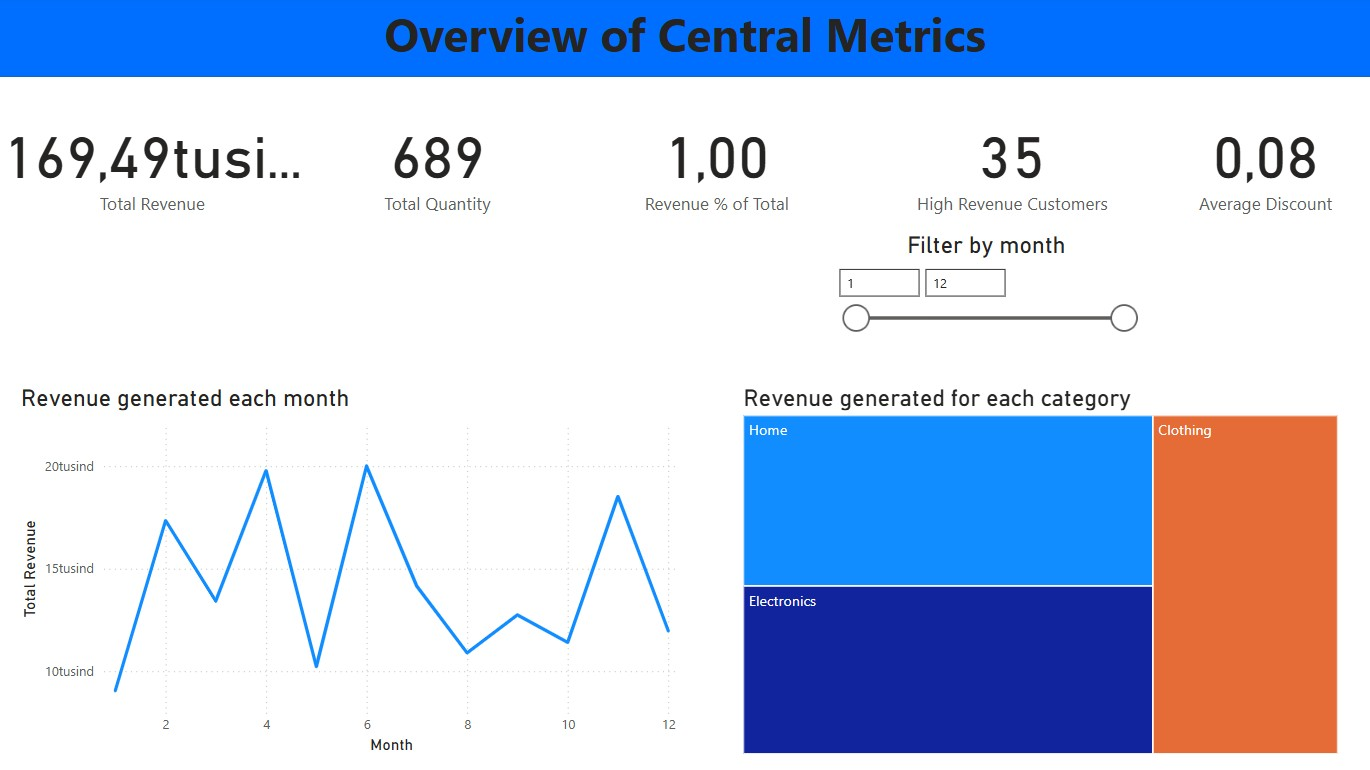

The page's visual inventory and layout, read from the dashboard file:
{"tool":"powerbi","page":{"name":"Overview","canvas":[1280,720],"ordinal":0},"visuals":[{"type":"card","fields":{"Values":["Sales.Total Revenue"]},"box":[0,88.4,289.5,130.2],"z":0},{"type":"card","fields":{"Values":["Sales.Total Quantity"]},"box":[289.5,88.4,240.7,130.2],"z":1000},{"type":"card","fields":{"Values":["Sales.Average Discount"]},"box":[1080.2,88.4,200,130.2],"z":2000},{"type":"card","fields":{"Values":["Sales.High Revenue Customers"]},"box":[809.3,88.4,270.9,130.2],"z":3000},{"type":"card","fields":{"Values":["Sales.Revenue % of Total"]},"box":[530.2,88.4,279.1,130.2],"z":4000},{"type":"lineChart","title":"Revenue generated each month","fields":{"Y":["Sales.Total Revenue"],"Category":["Date.Month"]},"box":[17.4,360.5,622.1,348.8],"z":5000},{"type":"slicer","title":"Filter by month","fields":{"Values":["Date.Month"]},"box":[770.9,218.6,298.8,141.9],"z":6000},{"type":"treemap","title":"Revenue generated for each category","fields":{"Group":["Products.Category Hierarki.Category","Products.Category Hierarki.Subcategory","Products.Category Hierarki.ProductName"],"Values":["Sales.Total Revenue"]},"box":[689.5,360.5,562.8,348.8],"z":7000},{"type":"shape","box":[0,0,1280.2,74.4],"z":7001},{"type":"textbox","box":[0,0,1280.2,74.4],"z":7002}]}

Visuals, with their boxes in screenshot pixels (x1, y1, x2, y2), scaled from the page's 1280x720 canvas onto the 1370x770 screenshot:
card - Sales.Total Revenue: [left=0, top=95, right=310, bottom=234]
card - Sales.Total Quantity: [left=310, top=95, right=567, bottom=234]
card - Sales.Average Discount: [left=1156, top=95, right=1369, bottom=234]
card - Sales.High Revenue Customers: [left=866, top=95, right=1156, bottom=234]
card - Sales.Revenue % of Total: [left=567, top=95, right=866, bottom=234]
"Revenue generated each month" lineChart: [left=19, top=386, right=684, bottom=759]
"Filter by month" slicer: [left=825, top=234, right=1145, bottom=386]
"Revenue generated for each category" treemap: [left=738, top=386, right=1340, bottom=759]
shape: [left=0, top=0, right=1369, bottom=80]
textbox: [left=0, top=0, right=1369, bottom=80]
